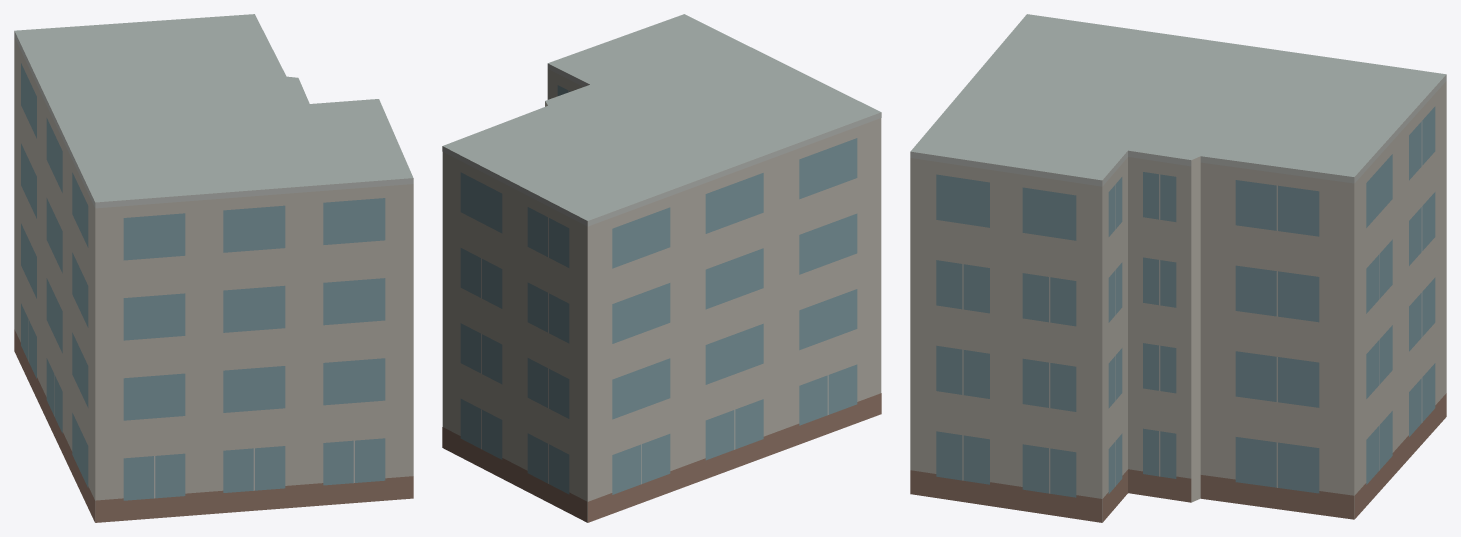
Rendered from survey-upis-32854341.glb.
3 renders of one model, left to right at view 1: azimuth 30°, elevation 25°; view 2: azimuth 150°, elevation 25°; view 3: azimuth 270°, elevation 25°, orthographic. The views are drawn at different scales.
Visible parts, largest first — view 1: survey-upis-32854341.tmp; view 2: survey-upis-32854341.tmp; view 3: survey-upis-32854341.tmp.
Part boxes in pixels (x1,y1,x2,y2): survey-upis-32854341.tmp: [14, 14, 413, 522]; survey-upis-32854341.tmp: [442, 14, 881, 522]; survey-upis-32854341.tmp: [910, 14, 1446, 522].
Size of the model in its own units: 13.77 by 13.2 by 18.74.
